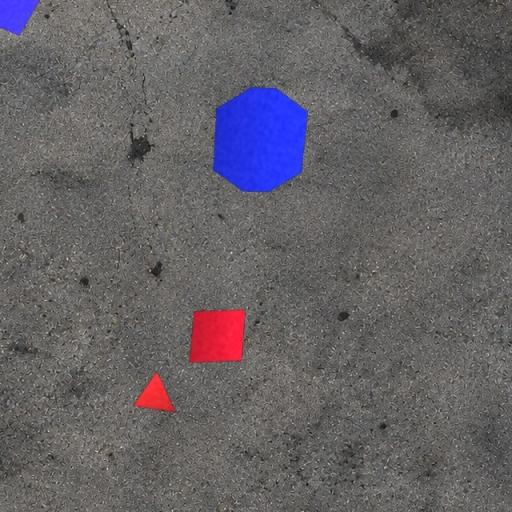RED_SQUARE: (188, 309, 246, 364)
